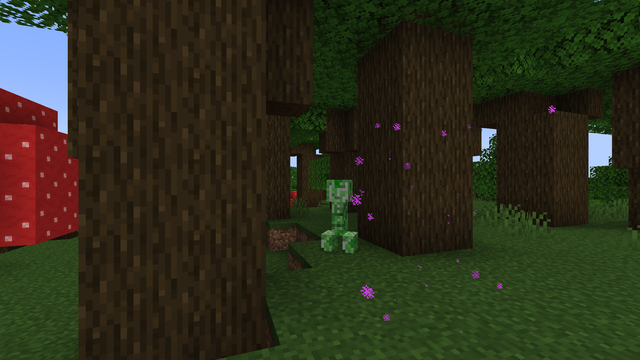creepers: (323, 176, 357, 253)
